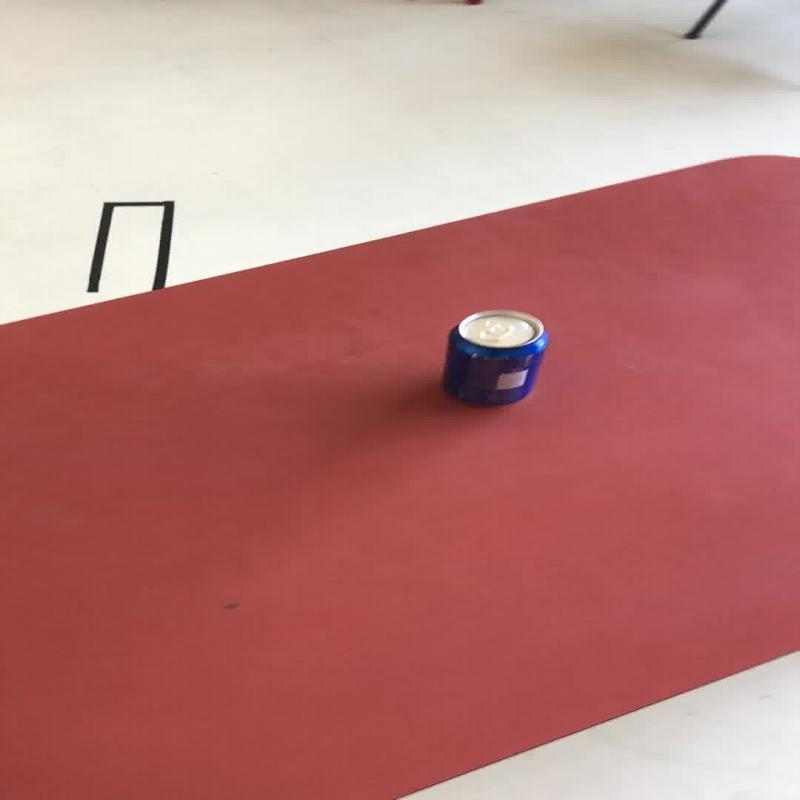tonic: (441, 307, 549, 406)
